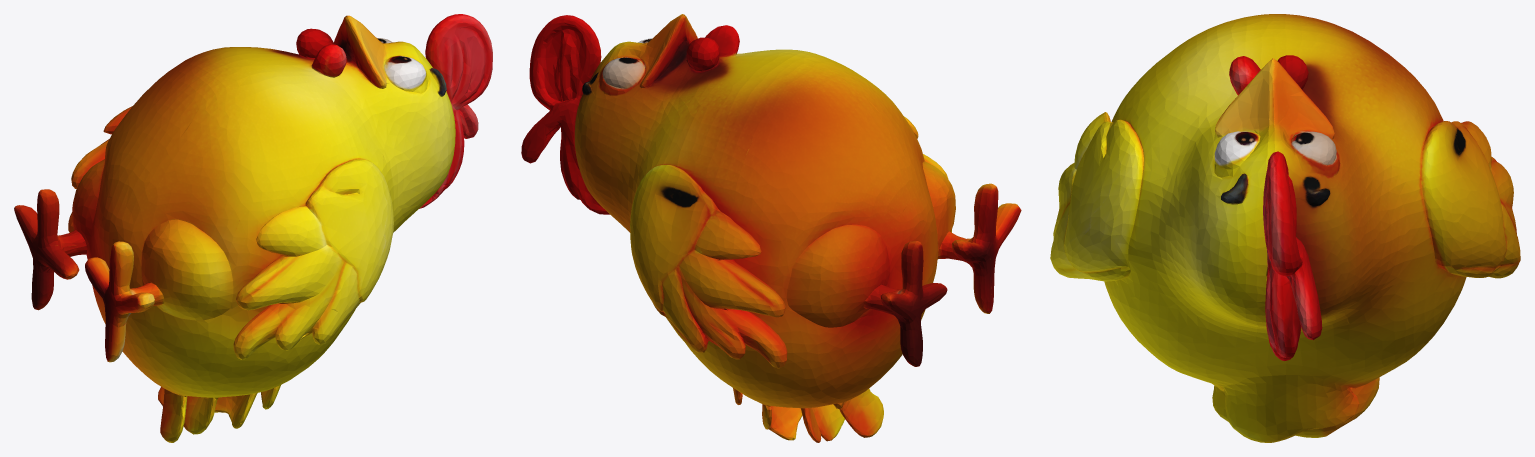
The model's file is fatty_chicken_comfyui.glb.
3 views of the same model, side by side, from view 1: azimuth 30°, elevation 25°; view 2: azimuth 150°, elevation 25°; view 3: azimuth 270°, elevation 25° (orthographic). The views are drawn at different scales.
Bounding box in the file's own units: 0.9331 × 0.8089 × 0.7551.
Materials: 1 (1 with a texture image).
